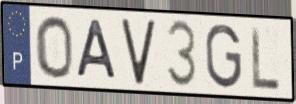3: (164, 17, 198, 90)
A: (75, 18, 120, 82)
G: (203, 21, 244, 90)
L: (249, 23, 282, 91)
O: (33, 13, 75, 80)
V: (119, 17, 158, 87)
